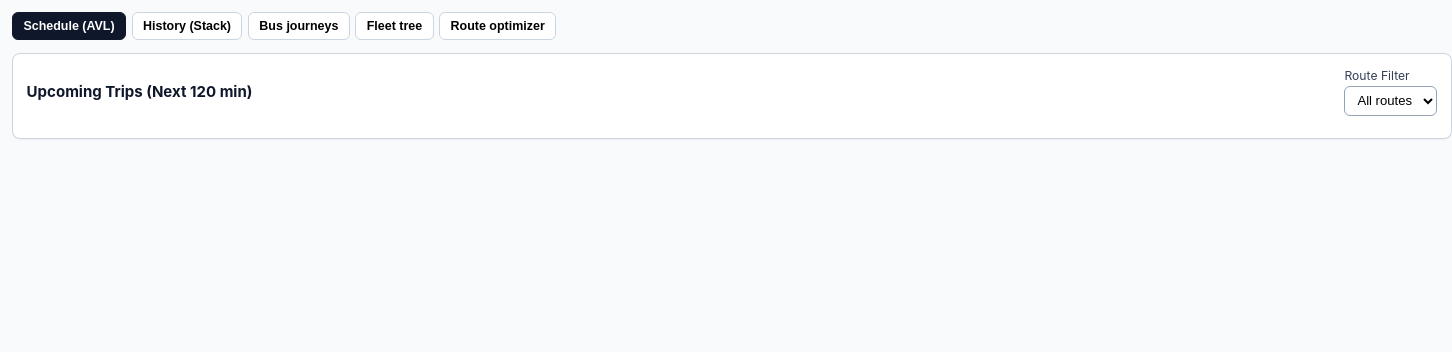
Dashboard, Demand, DsView, and CompareView › DsView Route Optimizer submits algo both and renders node counts and ratio
Click the tab "Route optimizer" at (498, 26), box top-left (439, 12), bottom-right (556, 40)
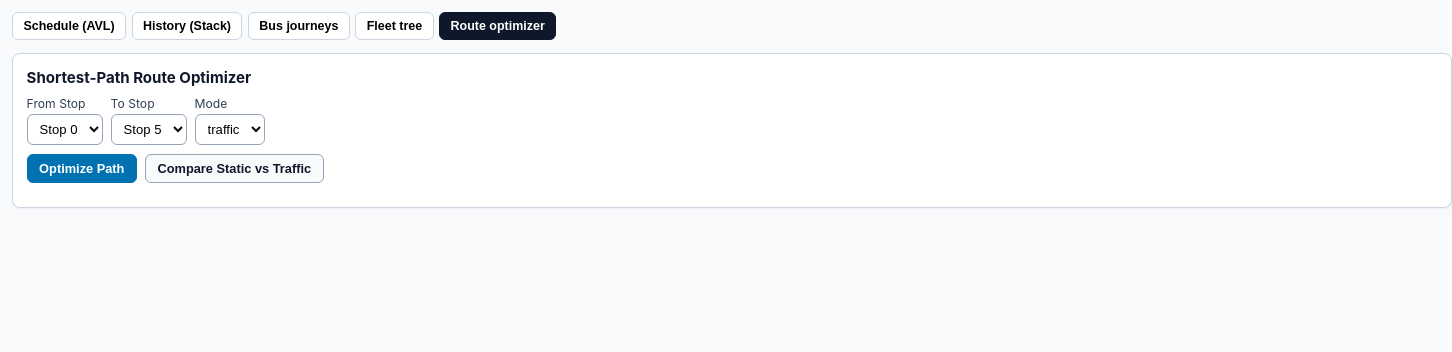
Click the button "Optimize Path" at (82, 169), box top-left (27, 154), bottom-right (137, 184)
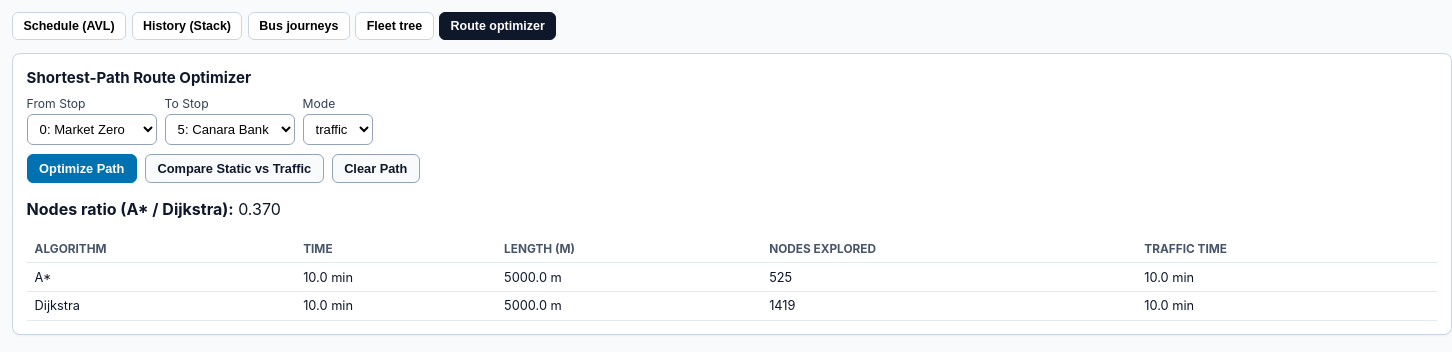
Result: the element with test id "optimizer-results" is shown at top-left (27, 199), bottom-right (1437, 321)
Result: the element with test id "optimizer-results" shows "525" at top-left (769, 270), bottom-right (792, 285)
Result: the element with test id "optimizer-results" shows "1419" at top-left (769, 298), bottom-right (796, 313)
